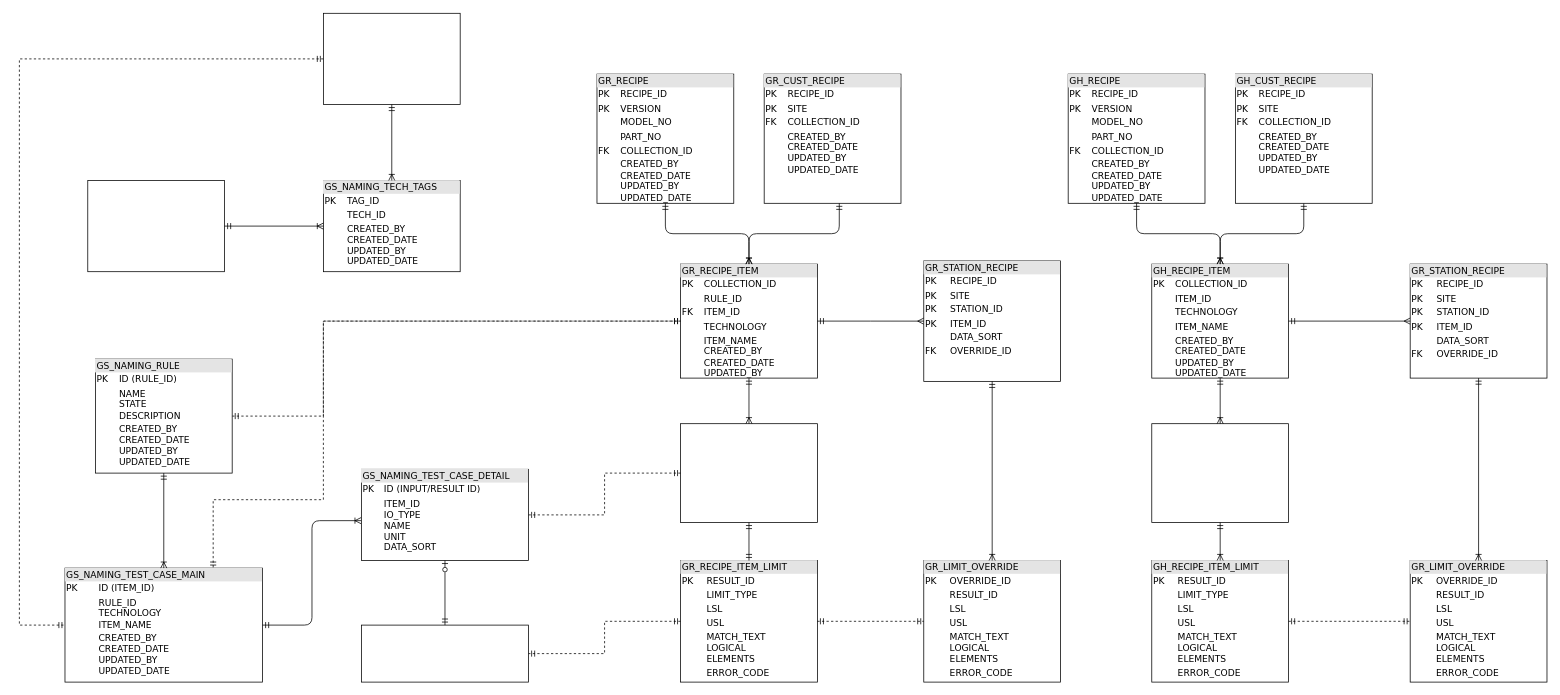
The diagram is 1560 pixels wide and 695 high, and some of its shapes have lost their labels. Here are the shapes that lost their labels. From the top down, the centre of each, then its label:
point 391,58: GS_NAMING_TECHS PK ID TECHNOLOGY CREATED_BY CREATED_DATE UPDATED_BY UPDATED_DATE
point 156,226: GS_NAMING_TAGS PK ID TAG CREATED_BY CREATED_DATE UPDATED_BY UPDATED_DATE
point 748,472: GR_RECIPE_ITEM_DETAIL PK ID ITEM_ID IO_TYPE NAME UNIT DATA_SORT
point 1220,472: GH_RECIPE_ITEM_DETAIL PK ID ITEM_ID IO_TYPE NAME UNIT DATA_SORT
point 445,653: GS_NAMING_TEST_CASE_LIMIT PK RESULT_ID LIMIT_TYPE IS_LIMIT
